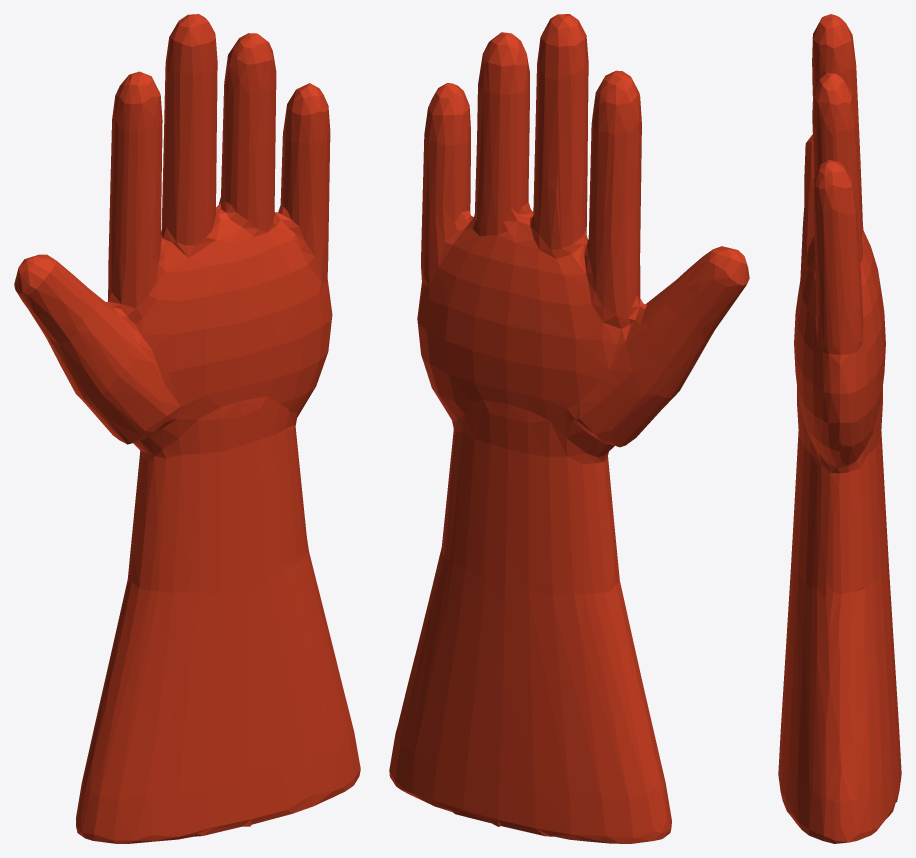
The model's file is Glove_R.fbx.
3 views of the same model, side by side, from view 1: azimuth 30°, elevation 25°; view 2: azimuth 150°, elevation 25°; view 3: azimuth 270°, elevation 25° (orthographic). The views are drawn at different scales.
Visible parts, largest first — view 1: Glove_R_RubberShell; view 2: Glove_R_RubberShell; view 3: Glove_R_RubberShell.
Part boxes in pixels (x1,y1,x2,y2): Glove_R_RubberShell: (14, 14, 360, 843); Glove_R_RubberShell: (389, 14, 749, 843); Glove_R_RubberShell: (778, 14, 901, 843).
Size of the model in its own units: 0.1637 by 0.36 by 0.0535.
